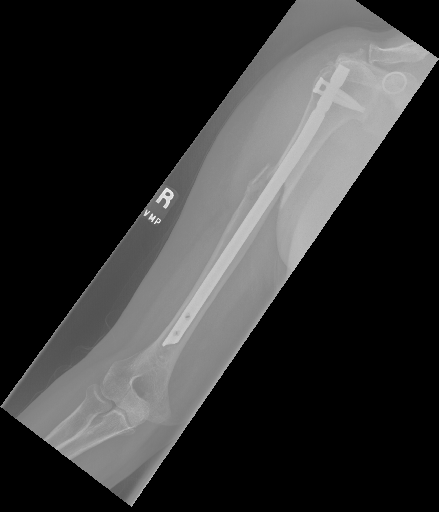implant: (307, 51, 367, 122), (155, 297, 206, 359), (375, 58, 408, 101)
